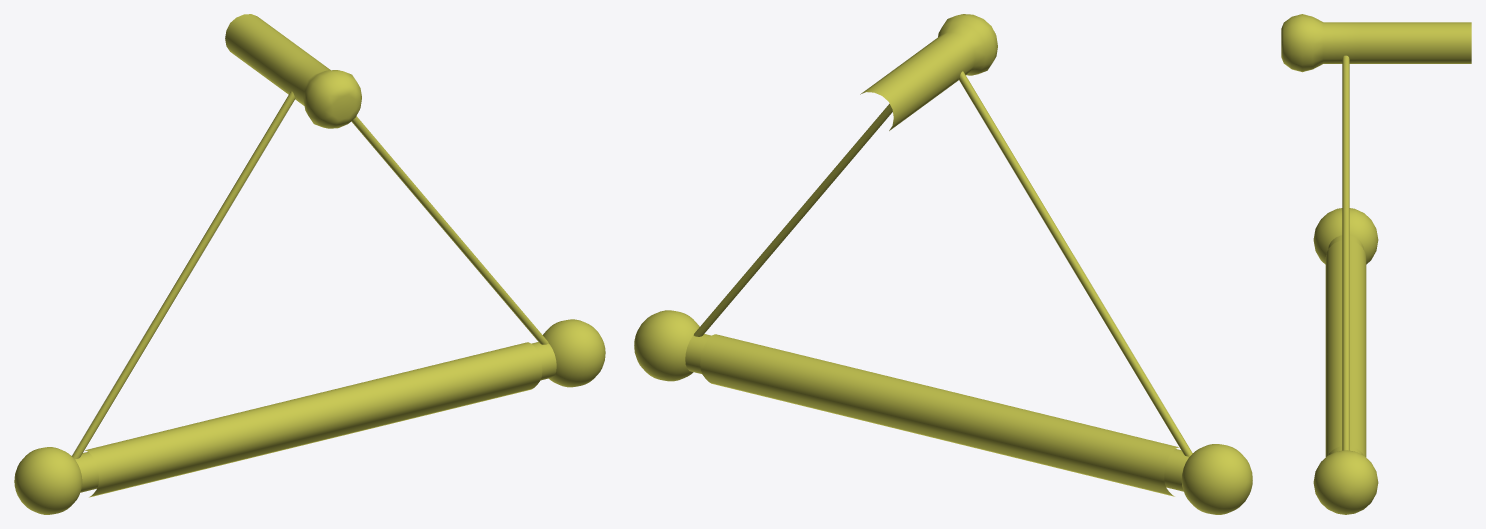
The model's file is ClothPoleModel.gltf.
The picture shows the model from 3 angles, left to right: view 1: azimuth 30°, elevation 25°; view 2: azimuth 150°, elevation 25°; view 3: azimuth 270°, elevation 25°; orthographic projection. The views are drawn at different scales.
Visible parts, largest first — view 1: ClothPoleModel; view 2: ClothPoleModel; view 3: ClothPoleModel.
Part boxes in pixels (bbox=[...]): ClothPoleModel: bbox=[14, 14, 605, 514]; ClothPoleModel: bbox=[634, 14, 1252, 514]; ClothPoleModel: bbox=[1281, 14, 1471, 514].
Bounding box in the file's own units: 1.58 × 1.02 × 0.4702.
